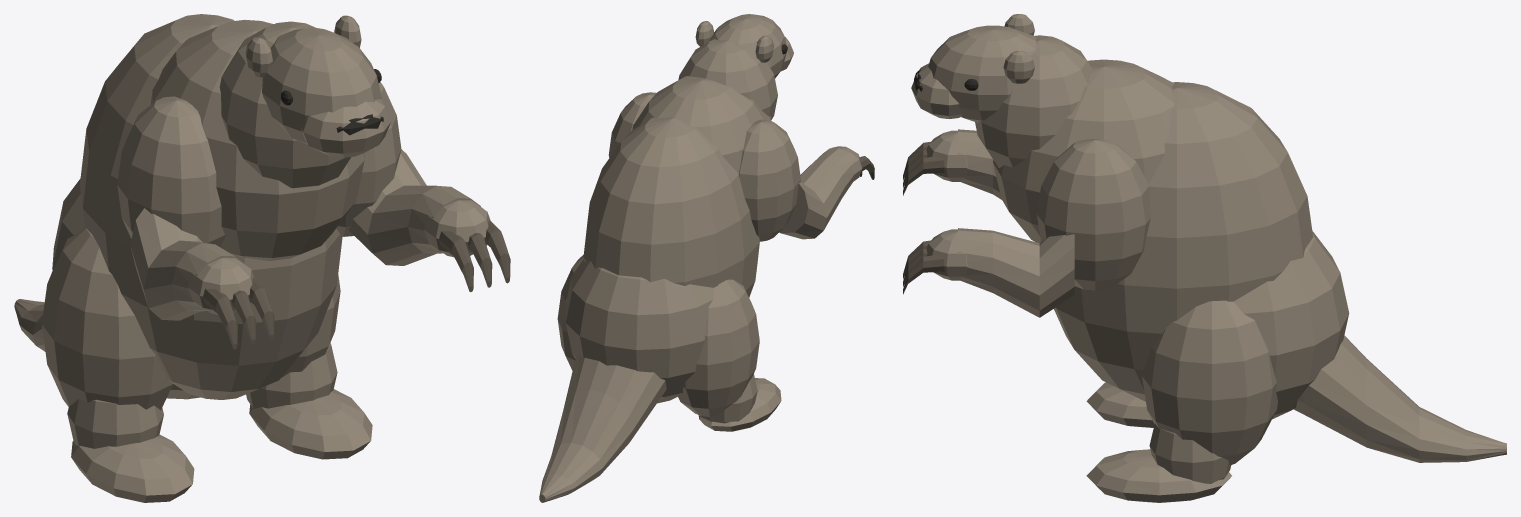
3 renders of one model, left to right at view 1: azimuth 30°, elevation 25°; view 2: azimuth 150°, elevation 25°; view 3: azimuth 270°, elevation 25°, orthographic. The views are drawn at different scales.
Visible parts, largest first — view 1: megatherium_surface_0, megatherium_surface_1, megatherium_surface_2; view 2: megatherium_surface_0; view 3: megatherium_surface_0, megatherium_surface_1.
Boxes of the visible parts, x1,y1,x2,y2 form: megatherium_surface_0: (14,14,490,502); megatherium_surface_1: (203,220,510,349); megatherium_surface_2: (281,69,383,135); megatherium_surface_0: (539,14,862,502); megatherium_surface_0: (911,14,1506,502); megatherium_surface_1: (903,141,944,294).
Size of the model in its own units: 0.502 by 0.81 by 1.03.
